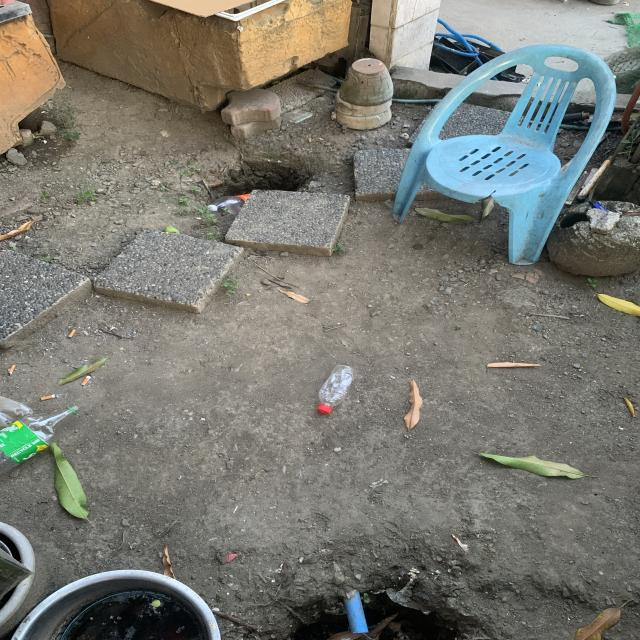Bottle: (317, 365, 355, 414)
